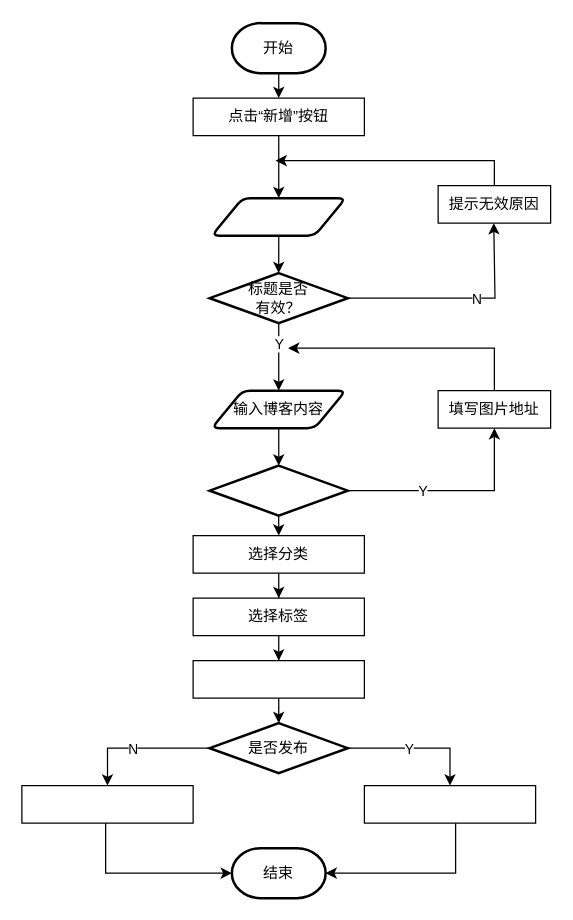
This 573x920 diagram has some shape labels left out. The centre of each missing label's shape, as x and y in pixels:
"保存为草稿" goes at (x=107, y=803).
"发布博客" goes at (x=449, y=803).
"是否插入图片" goes at (x=278, y=490).
"输入标题" goes at (x=278, y=216).
"选择是否开启评论" goes at (x=278, y=678).
